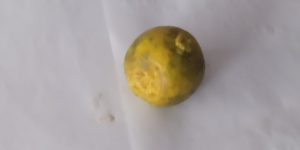BAD: (120, 24, 204, 106)
